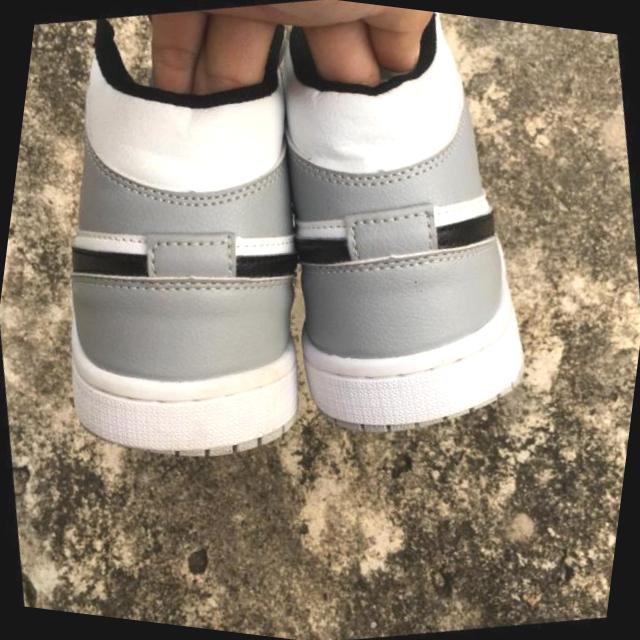nike_fake_jordan: (0, 0, 369, 501), (218, 0, 580, 470)
